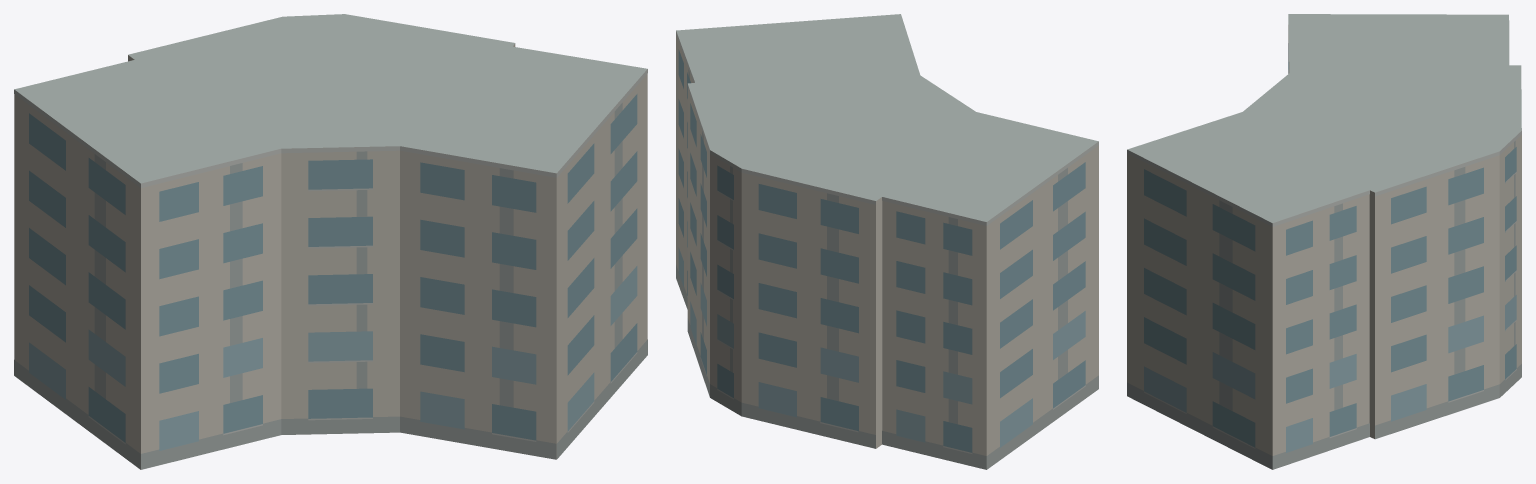
Rendered from survey-upis-32836510.glb.
3 views of the same model, side by side, from view 1: azimuth 30°, elevation 25°; view 2: azimuth 150°, elevation 25°; view 3: azimuth 270°, elevation 25° (orthographic). The views are drawn at different scales.
Visible parts, largest first — view 1: survey-upis-32836510.tmp; view 2: survey-upis-32836510.tmp; view 3: survey-upis-32836510.tmp.
Part boxes in pixels (x1,y1,x2,y2): survey-upis-32836510.tmp: (14, 14, 647, 469); survey-upis-32836510.tmp: (676, 14, 1098, 469); survey-upis-32836510.tmp: (1127, 14, 1521, 469).
Bounding box in the file's own units: 27.75 × 15.25 × 22.13.
